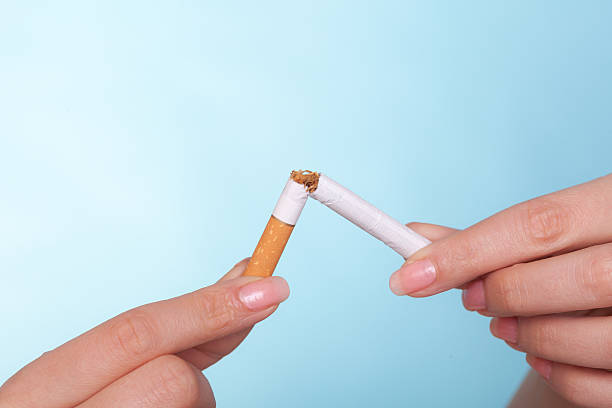cigarette: (306, 172, 432, 258), (240, 167, 311, 278)
